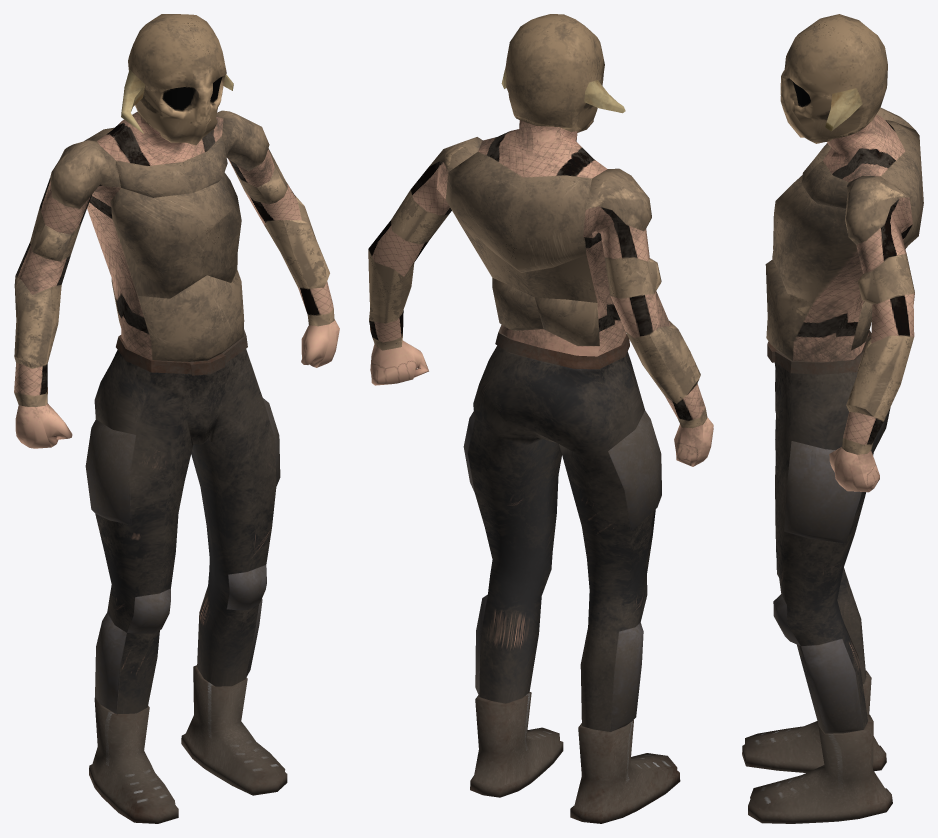
Rendered from Anim_morir_npc1.0012.obj.
The picture shows the model from 3 angles, left to right: view 1: azimuth 30°, elevation 25°; view 2: azimuth 150°, elevation 25°; view 3: azimuth 270°, elevation 25°; orthographic projection. The views are drawn at different scales.
Parts seen in each view (by area): view 1: NPC2; view 2: NPC2; view 3: NPC2.
Boxes of the visible parts, x1=… form: NPC2: x1=14, y1=14, x2=339, y2=823; NPC2: x1=368, y1=14, x2=713, y2=823; NPC2: x1=742, y1=14, x2=923, y2=823.
Size of the model in its own units: 4.27 by 9.54 by 2.04.
